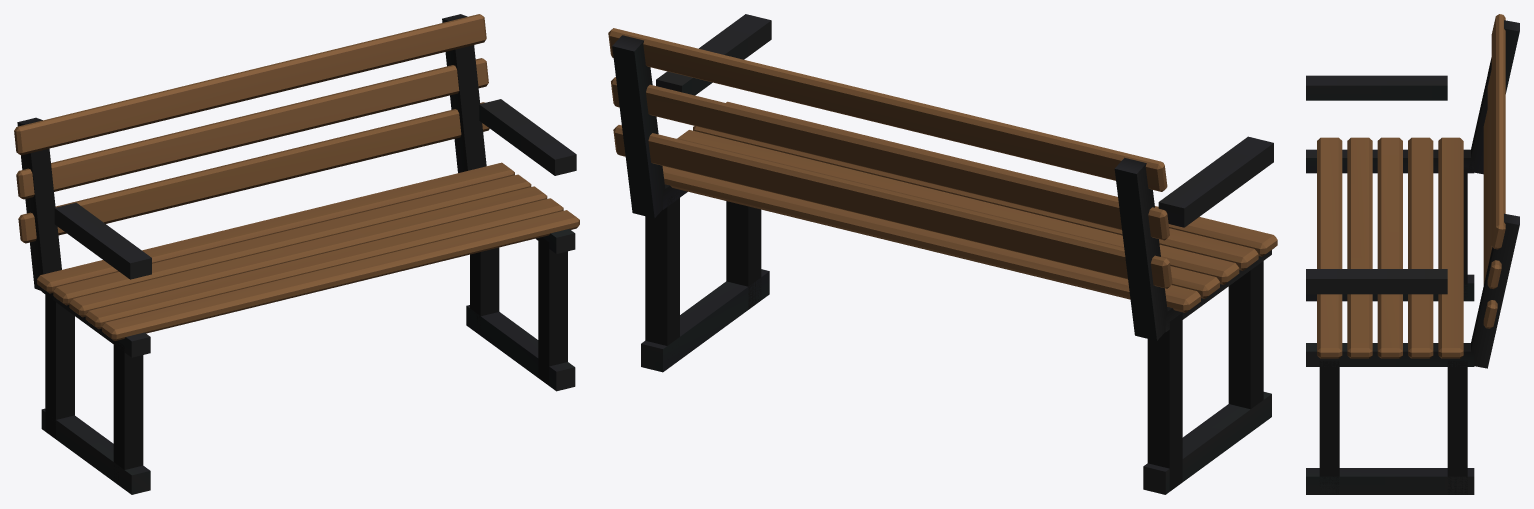
The model's file is bench-Bw_Ubtnr.glb.
The picture shows the model from 3 angles, left to right: view 1: azimuth 30°, elevation 25°; view 2: azimuth 150°, elevation 25°; view 3: azimuth 270°, elevation 25°; orthographic projection. The views are drawn at different scales.
Bounding box in the file's own units: 1.5 × 0.8996 × 0.6348.
